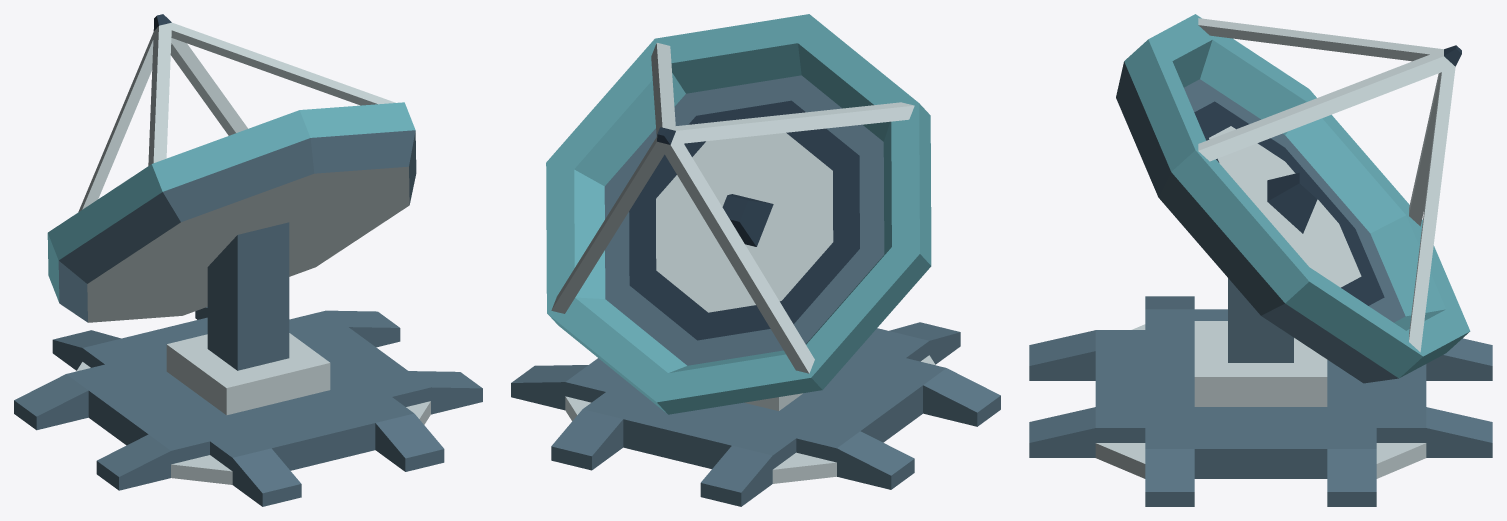
Rendered from satelliteDish_detailed.glb.
The picture shows the model from 3 angles, left to right: view 1: azimuth 30°, elevation 25°; view 2: azimuth 150°, elevation 25°; view 3: azimuth 270°, elevation 25°; orthographic projection. The views are drawn at different scales.
Parts seen in each view (by area): view 1: satelliteDish_detailed; view 2: satelliteDish_detailed; view 3: satelliteDish_detailed.
Part boxes in pixels (left/top/right/bottom): satelliteDish_detailed: left=14, top=14, right=482, bottom=506; satelliteDish_detailed: left=511, top=14, right=1000, bottom=506; satelliteDish_detailed: left=1029, top=14, right=1492, bottom=506.
Size of the model in its own units: 0.7 by 0.6165 by 0.7.
